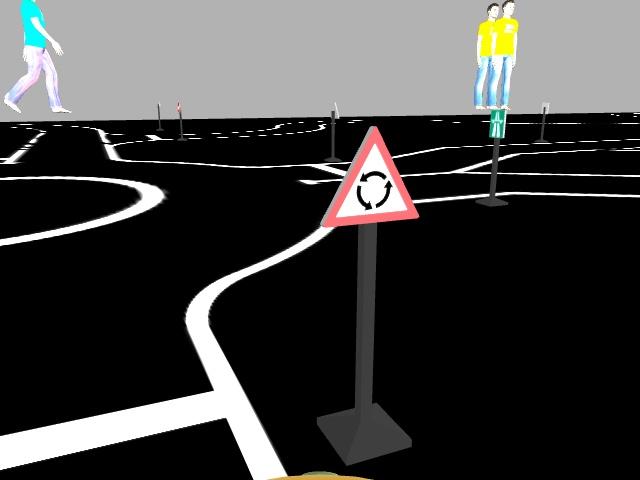HighwayEntrance: (485, 107, 507, 138)
Roundabout: (316, 124, 419, 227)
